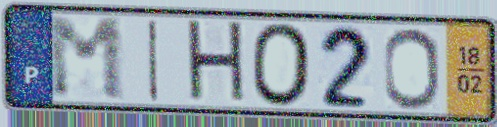2: (316, 20, 378, 115)
H: (183, 17, 249, 108)
I: (146, 17, 161, 104)
M: (43, 15, 129, 103)
O: (249, 20, 313, 109), (381, 25, 443, 112)
